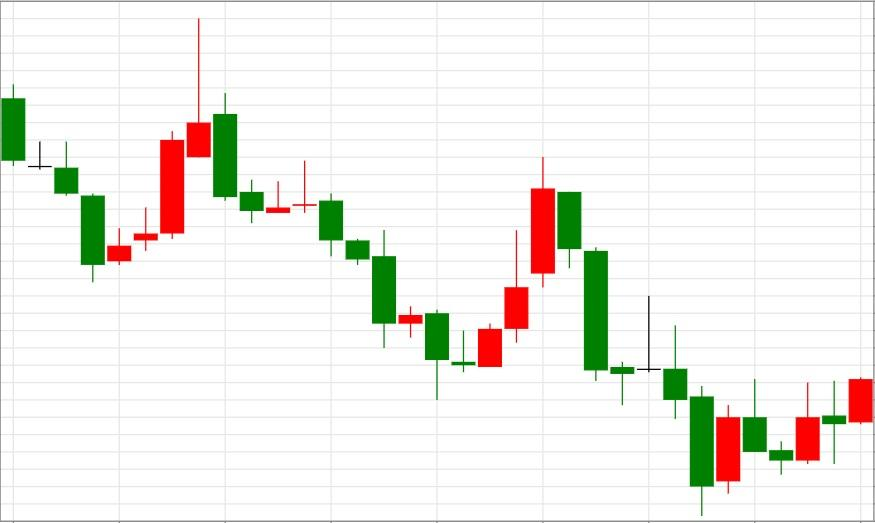morning_star_rise: (211, 93, 504, 401)
shooting_star_fall: (79, 17, 212, 282)
